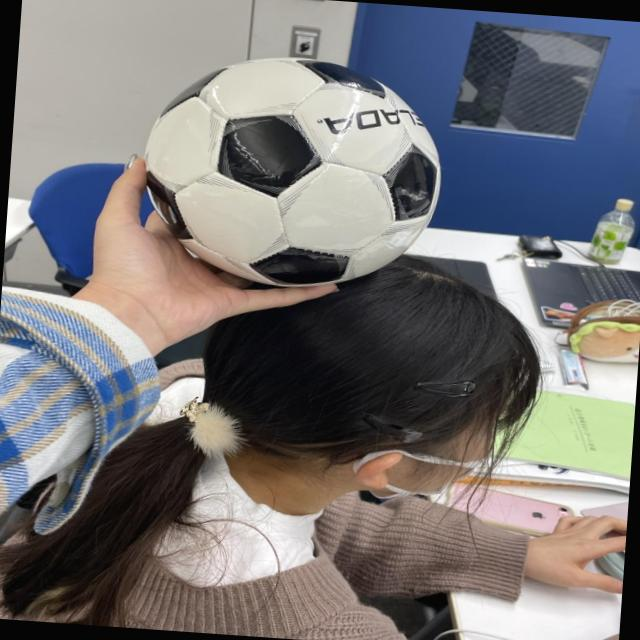Soccer Ball: (138, 48, 443, 299)
